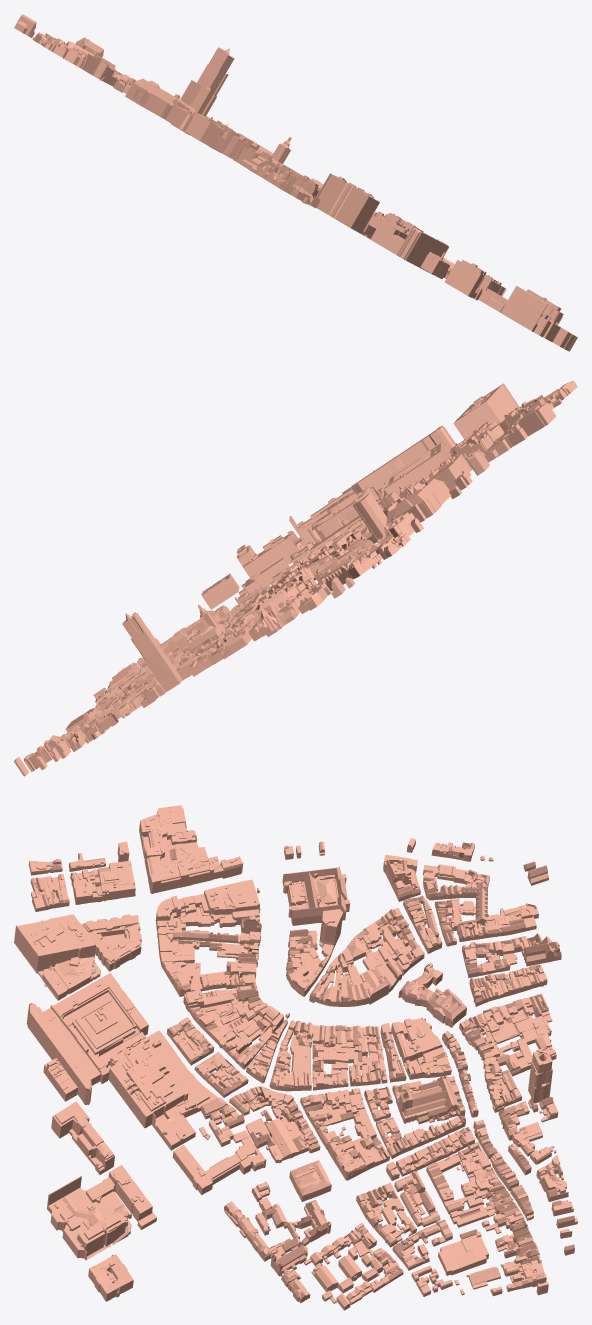
3 renders of one model, top to bottom at view 1: azimuth 30°, elevation 25°; view 2: azimuth 150°, elevation 25°; view 3: azimuth 270°, elevation 25°, orthographic. The views are drawn at different scales.
Size of the model in its own units: 533 by 430 by 672.
